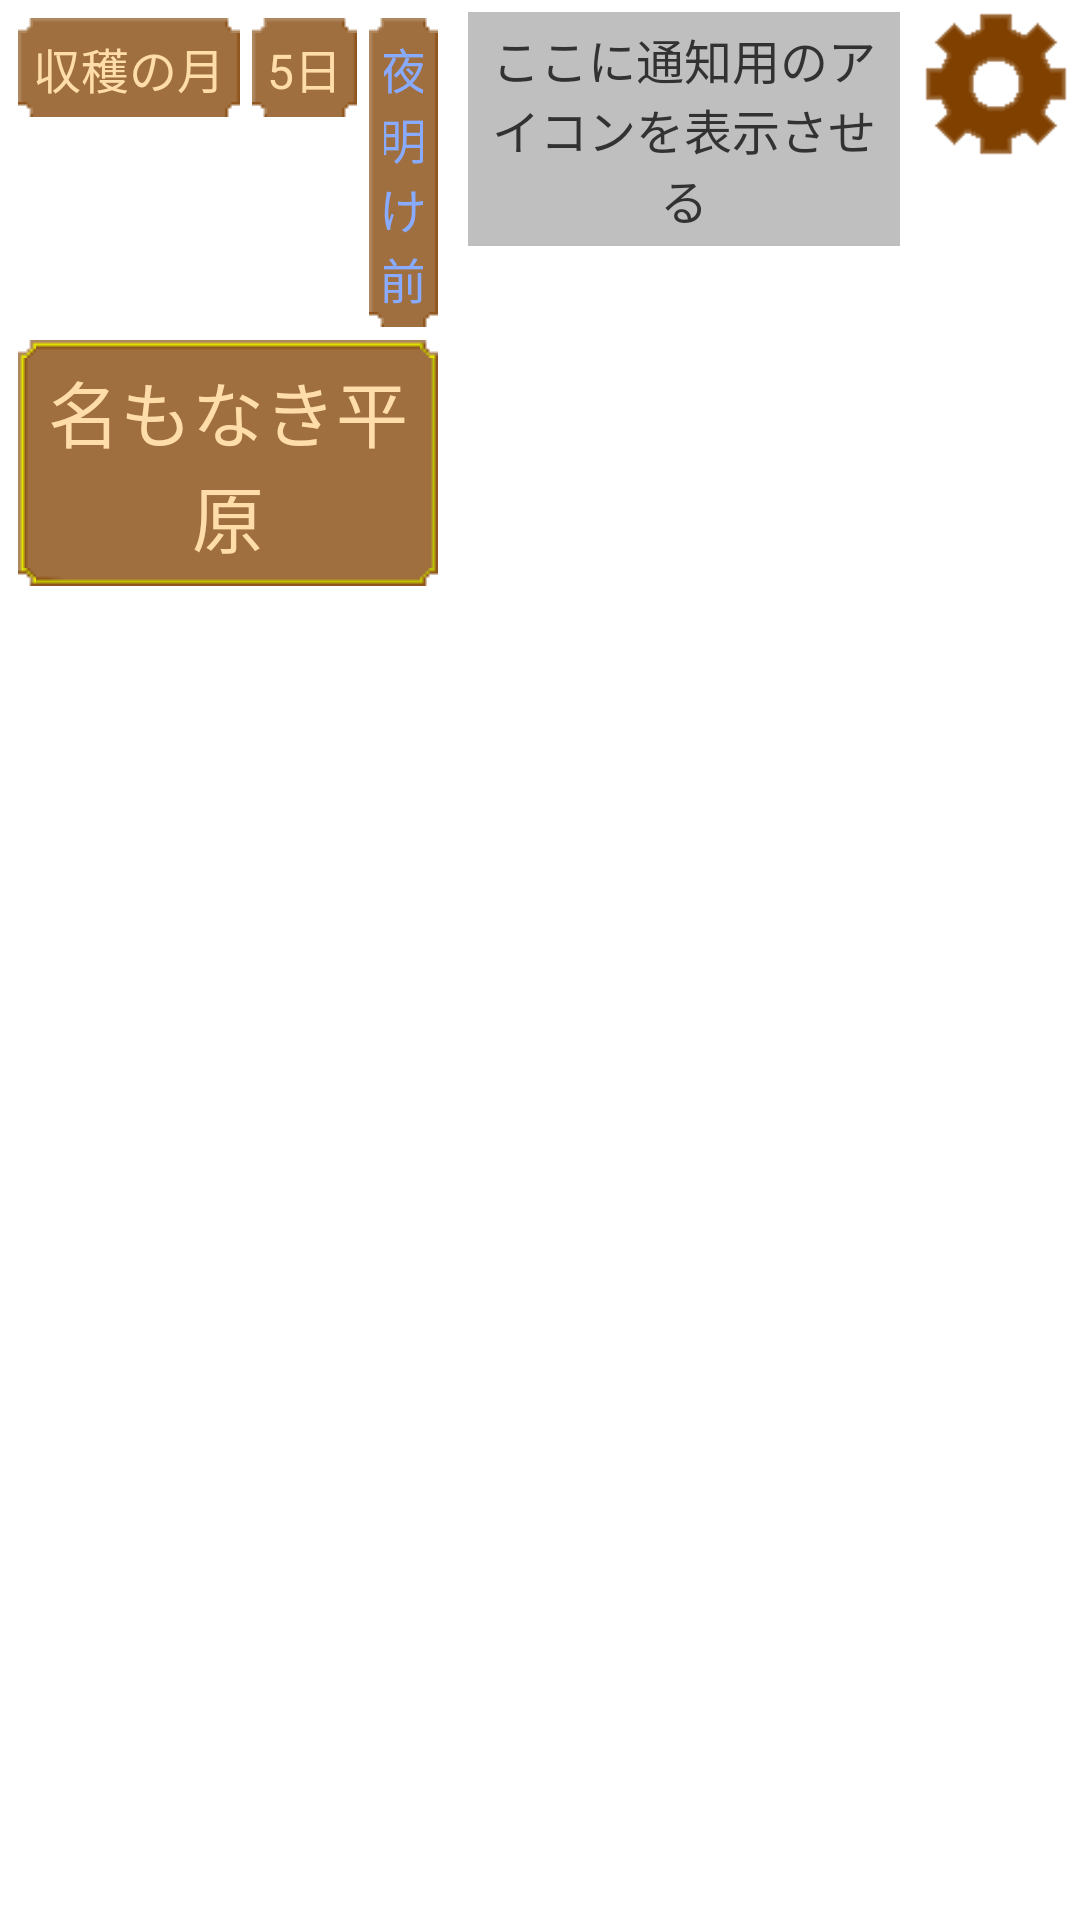

Point at icon controls on the screen. Image size 1080x1920, points as point (x, y).
setting: point (996, 84)
